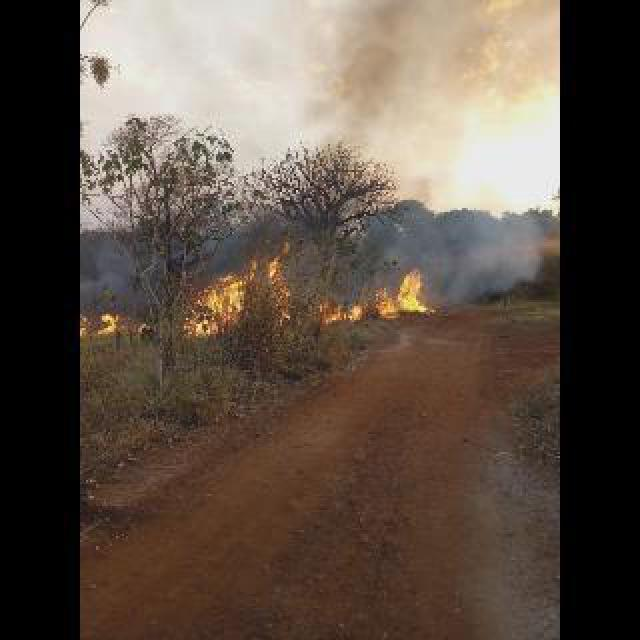Fire: (186, 254, 290, 336), (378, 270, 426, 318), (316, 298, 362, 322), (98, 314, 124, 336)
Smoke: (304, 0, 439, 154), (406, 196, 556, 305)
